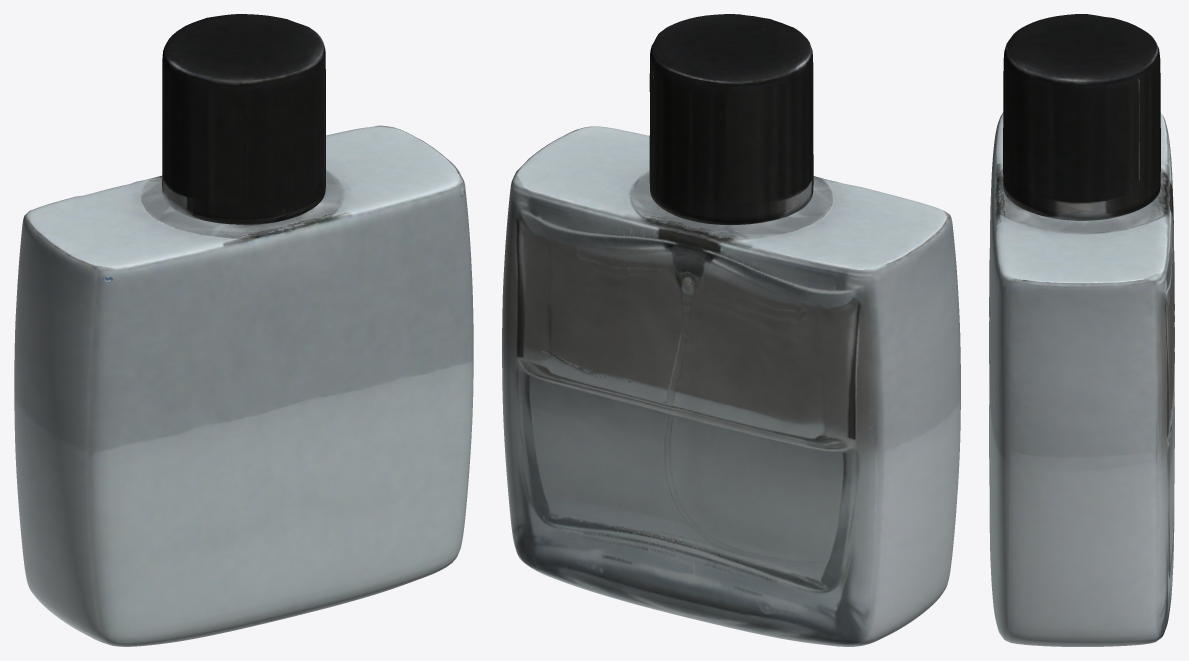
Rendered from Clear_Essence_0205205158_texture.glb.
The picture shows the model from 3 angles, left to right: view 1: azimuth 30°, elevation 25°; view 2: azimuth 150°, elevation 25°; view 3: azimuth 270°, elevation 25°; orthographic projection. The views are drawn at different scales.
Size of the model in its own units: 1.56 by 2 by 0.6297.
Materials: 1 (1 with a texture image).
